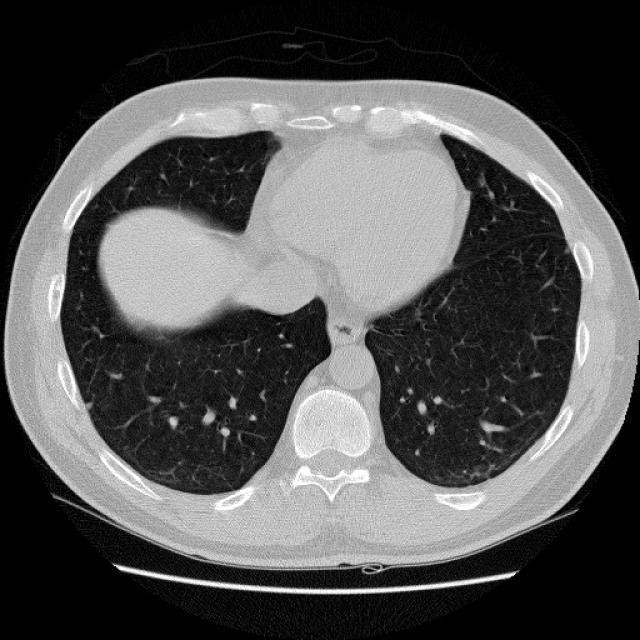nodule: (78, 394, 98, 414)
